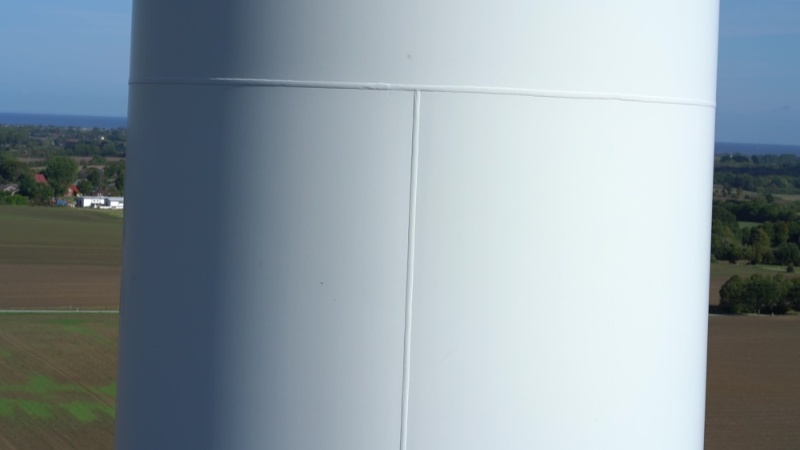weldseam: (123, 68, 718, 116), (394, 77, 426, 450)
